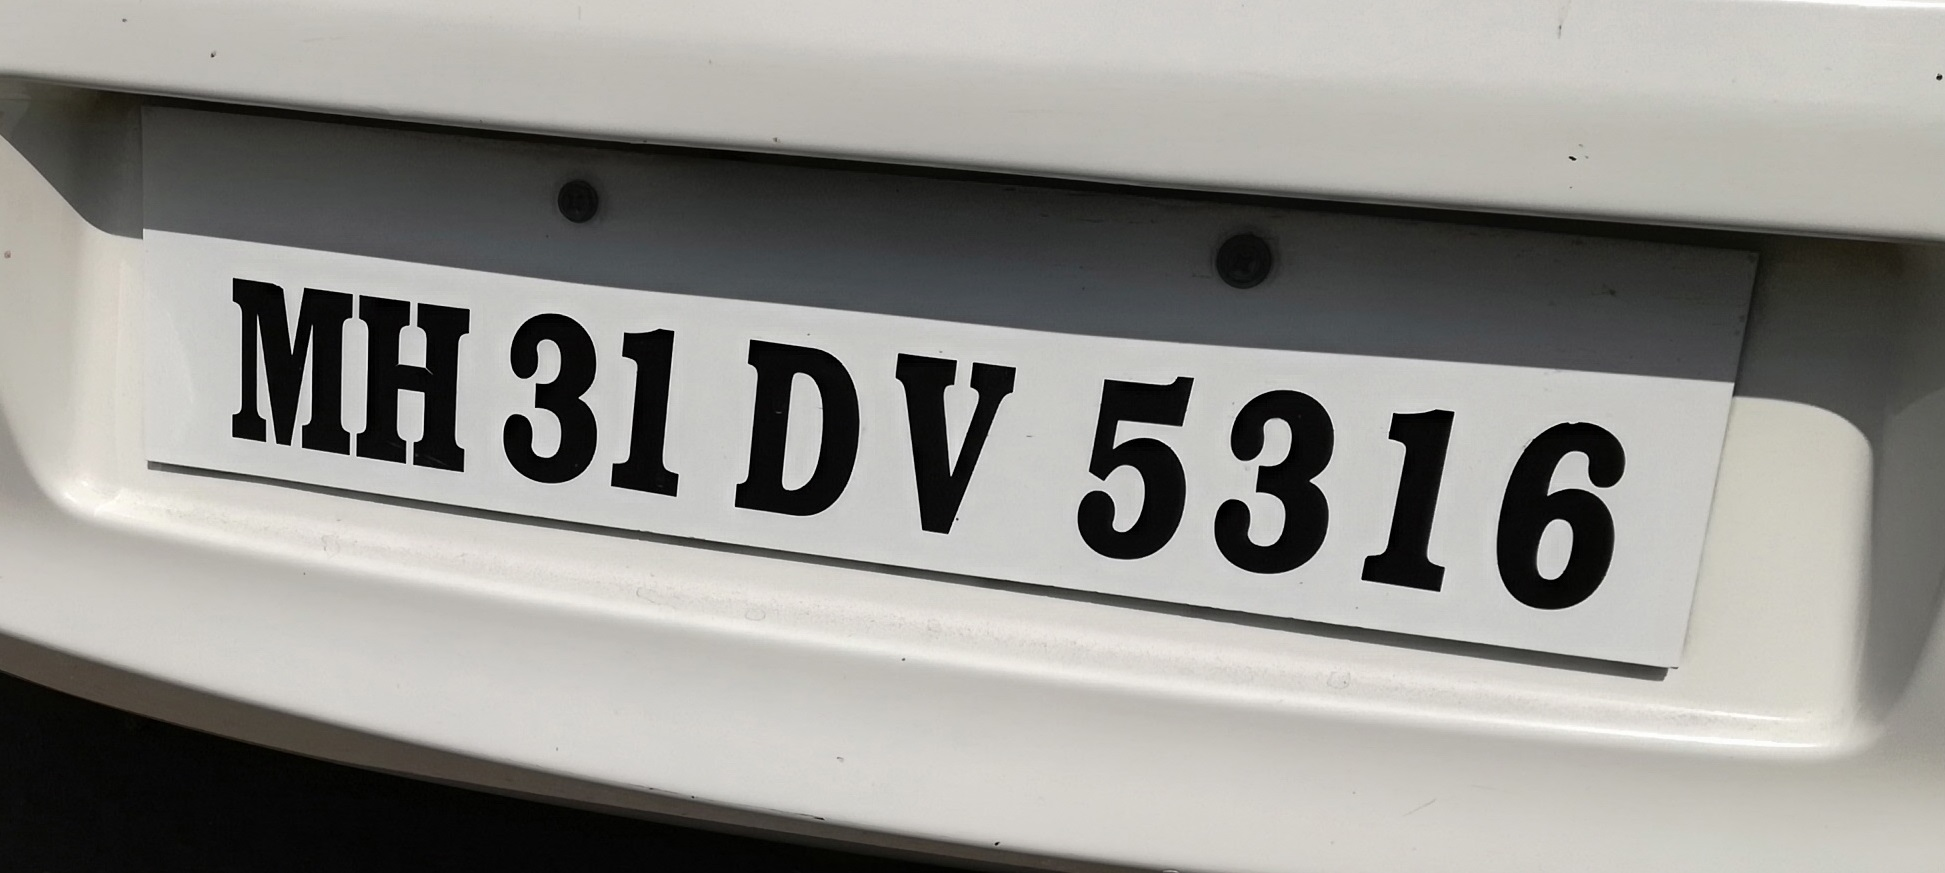numberplate: (125, 98, 1761, 681)
